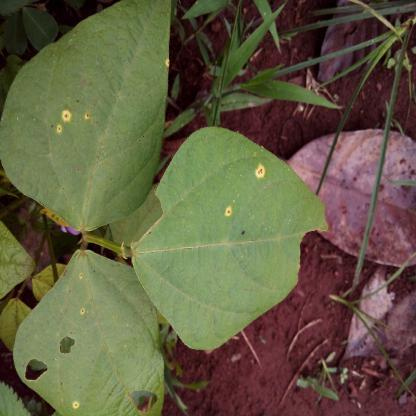Beans_Rust: (130, 122, 332, 351), (0, 0, 170, 229), (12, 252, 164, 416)
